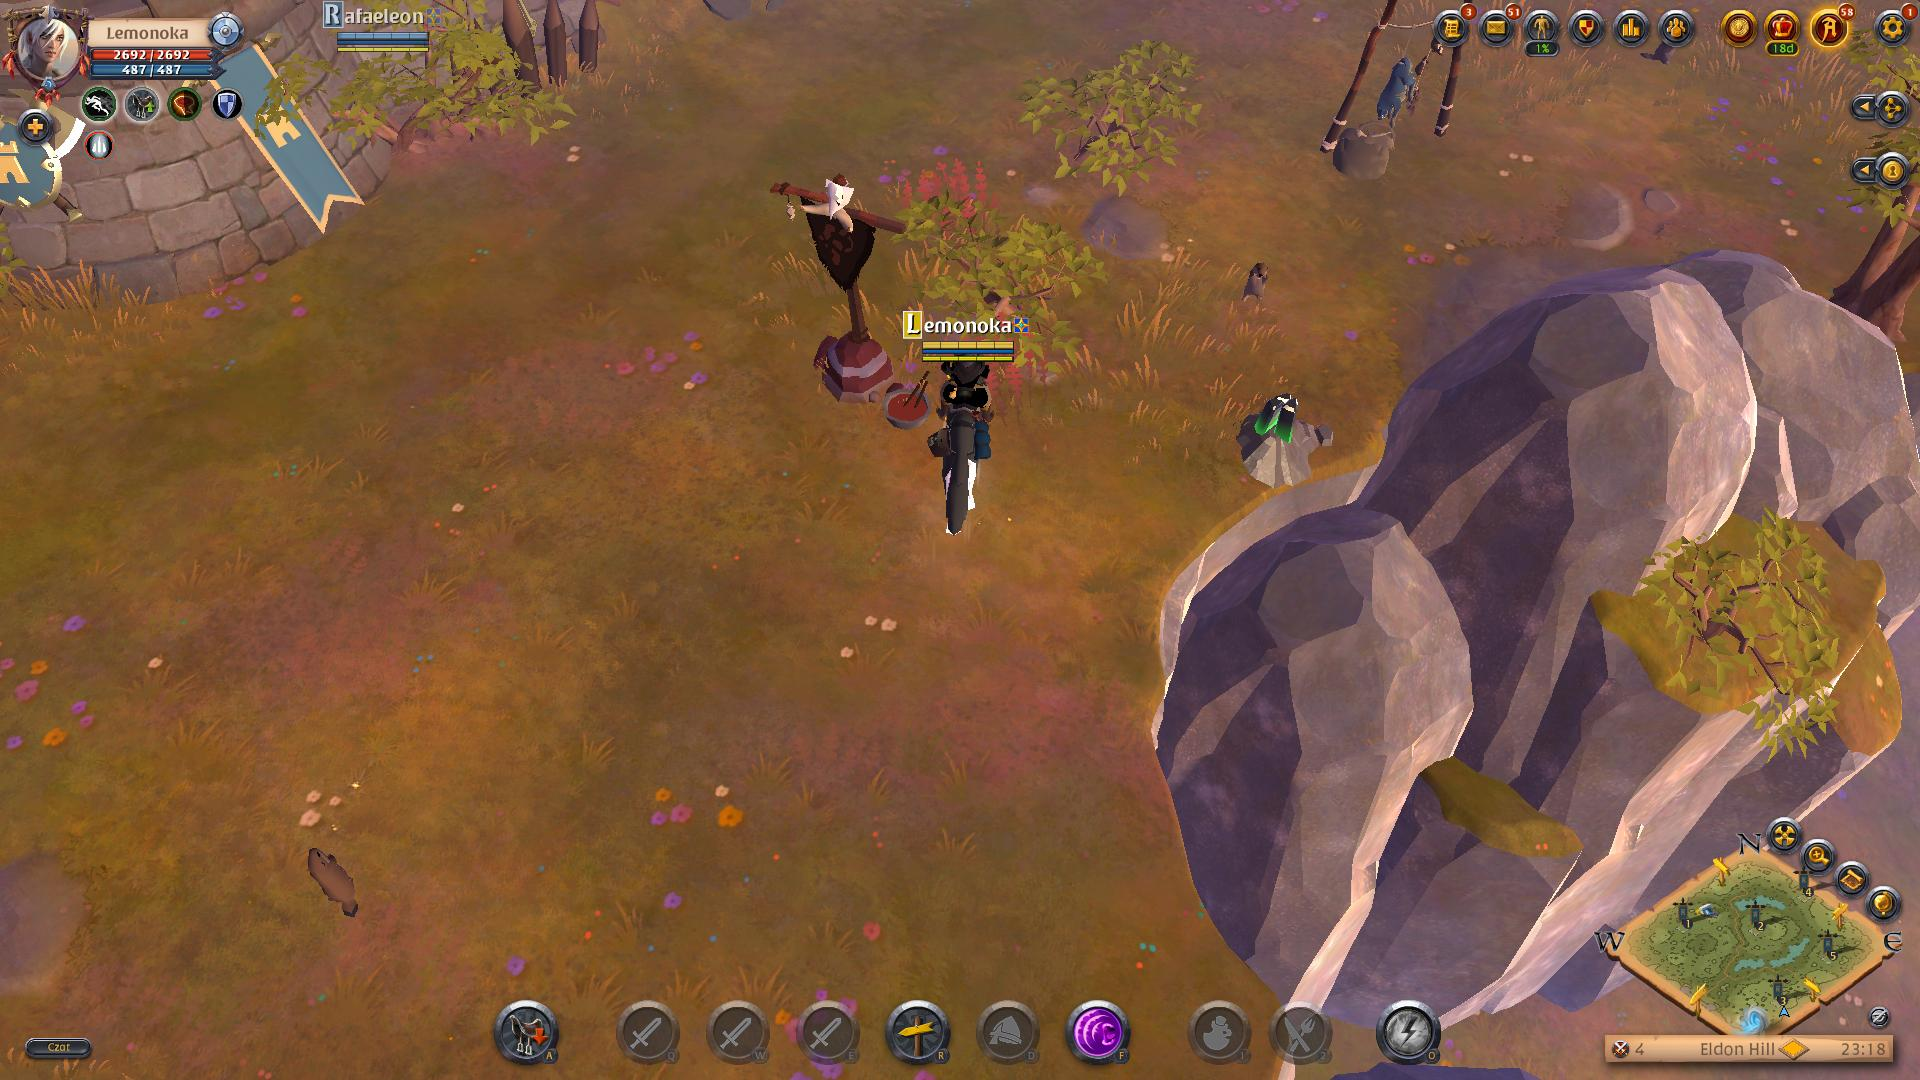ore tier 3: (1237, 392, 1320, 491)
